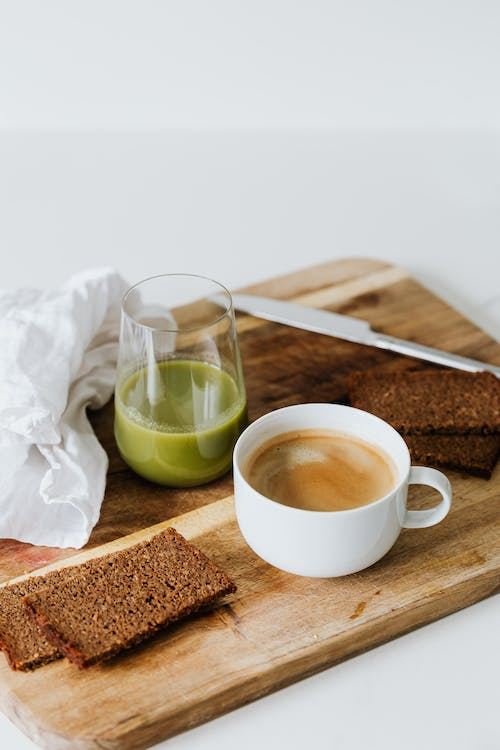knife: (201, 292, 500, 385)
